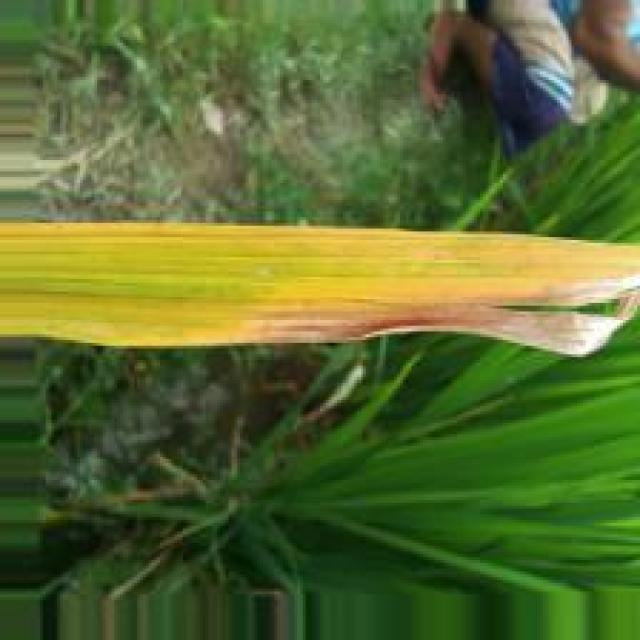Rice False Smut: (255, 304, 484, 343)
